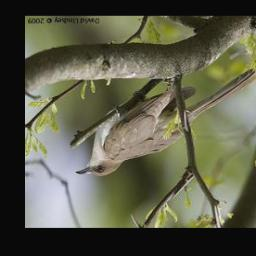Cuckoo: (78, 69, 256, 178)
